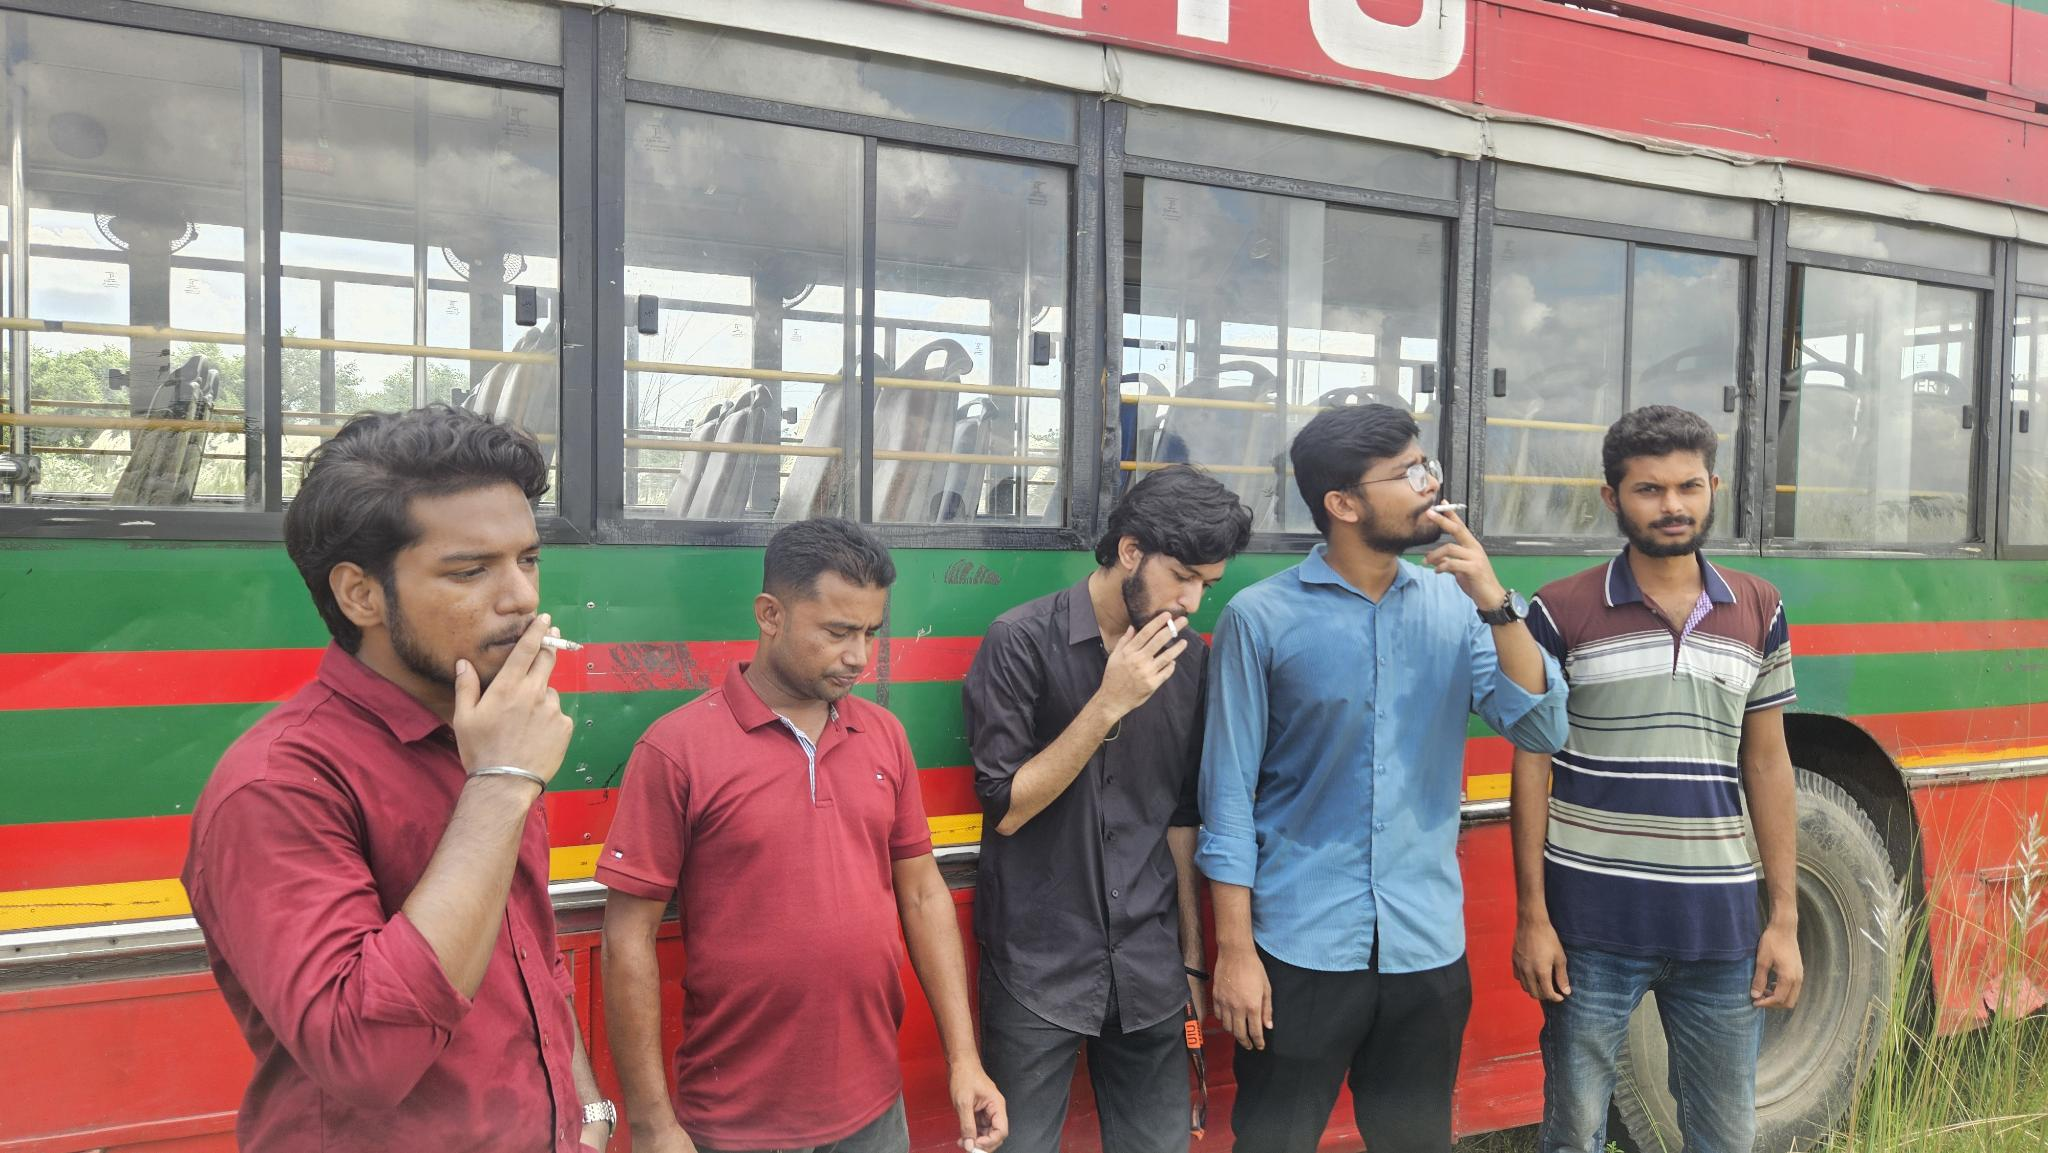cigarette: (537, 633, 587, 655), (1428, 501, 1468, 515), (1165, 616, 1179, 640)
nonSmoker: (595, 517, 1007, 1153), (1511, 402, 1802, 1153)
smoker: (179, 404, 617, 1153), (1194, 404, 1571, 1153), (964, 467, 1253, 1153)
